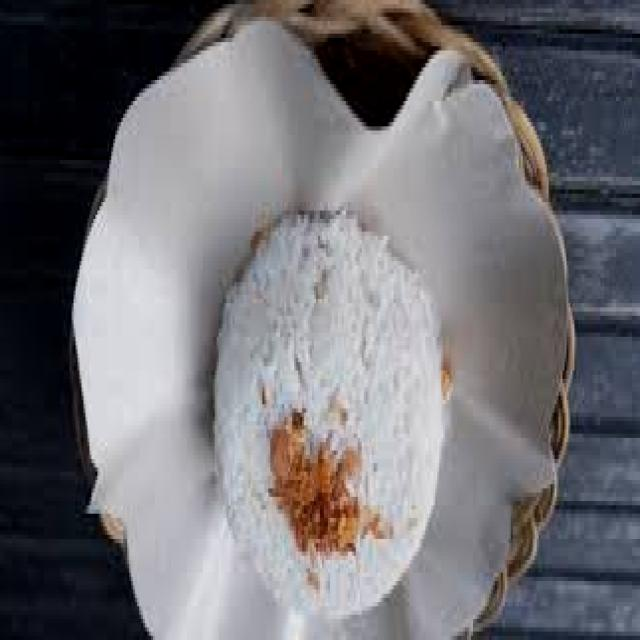nasi: (214, 200, 443, 622)
